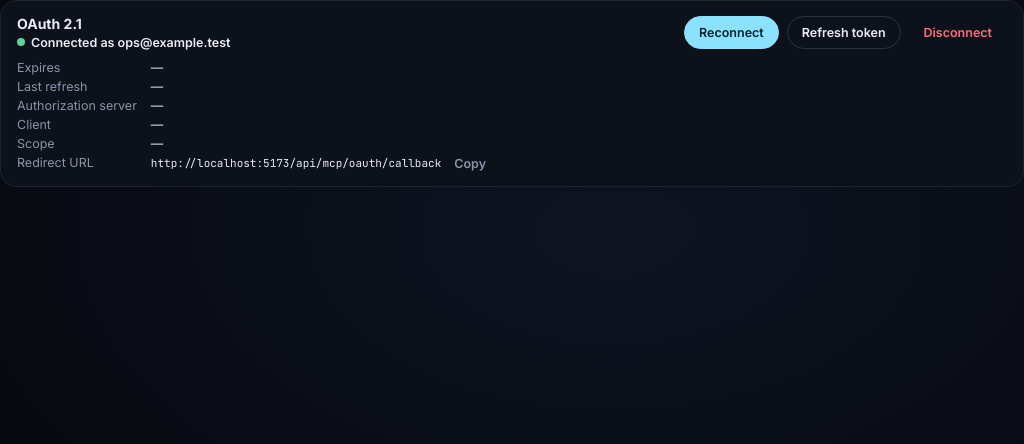
Test: McpOAuthPanel › refreshes and disconnects
Click the button "Refresh token": coordinates (844, 32) x1=787 y1=16 x2=901 y2=49
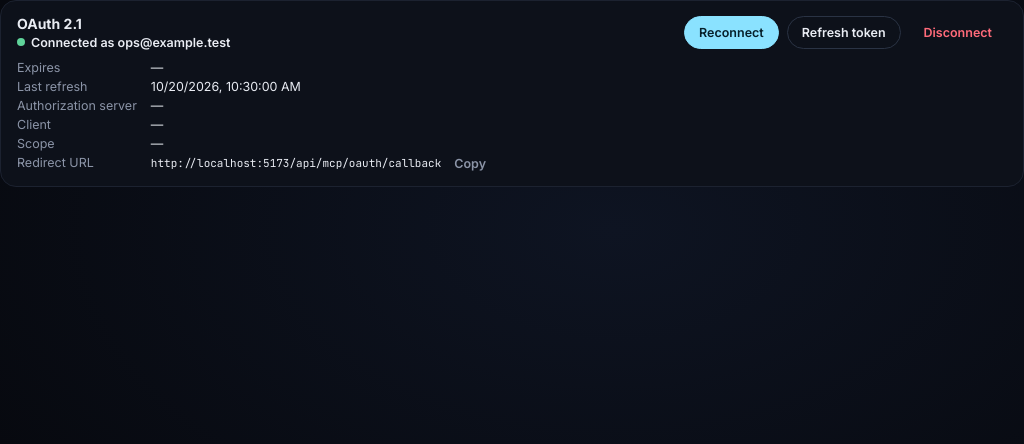
Click the button "Disconnect": coordinates (958, 32) x1=908 y1=16 x2=1007 y2=49
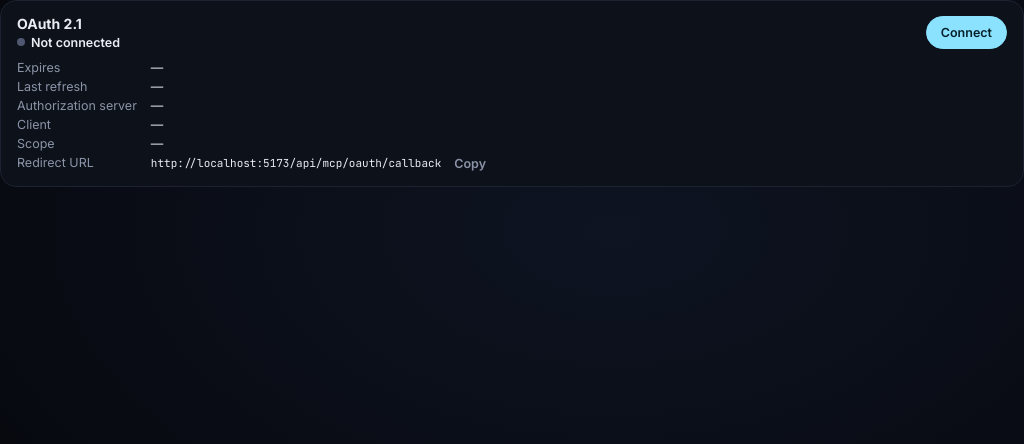
Now the text "Not connected" is shown, box x1=17 y1=34 x2=120 y2=50
